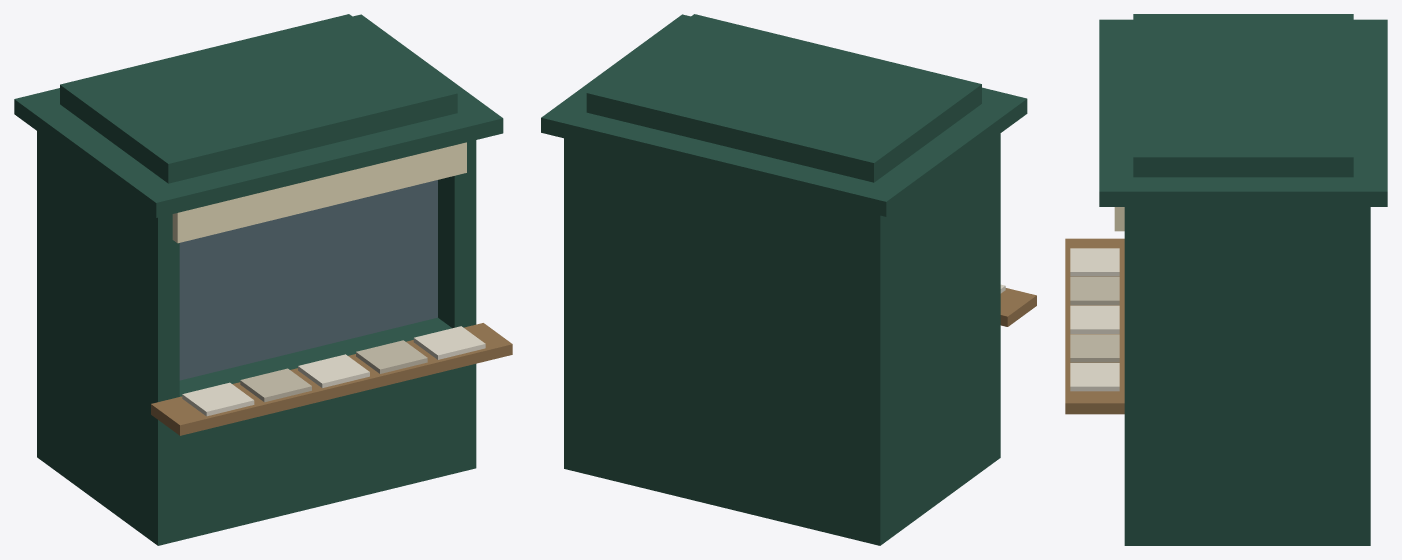
File: life_kiosk.glb
3 views of the same model, side by side, from view 1: azimuth 30°, elevation 25°; view 2: azimuth 150°, elevation 25°; view 3: azimuth 270°, elevation 25° (orthographic). The views are drawn at different scales.
Parts seen in each view (by area): view 1: life_kiosk; view 2: life_kiosk; view 3: life_kiosk.
Boxes of the visible parts, x1,y1,x2,y2 form: life_kiosk: [14, 14, 512, 545]; life_kiosk: [541, 14, 1036, 545]; life_kiosk: [1065, 14, 1387, 545].
Size of the model in its own units: 2.4 by 2.48 by 1.9.
